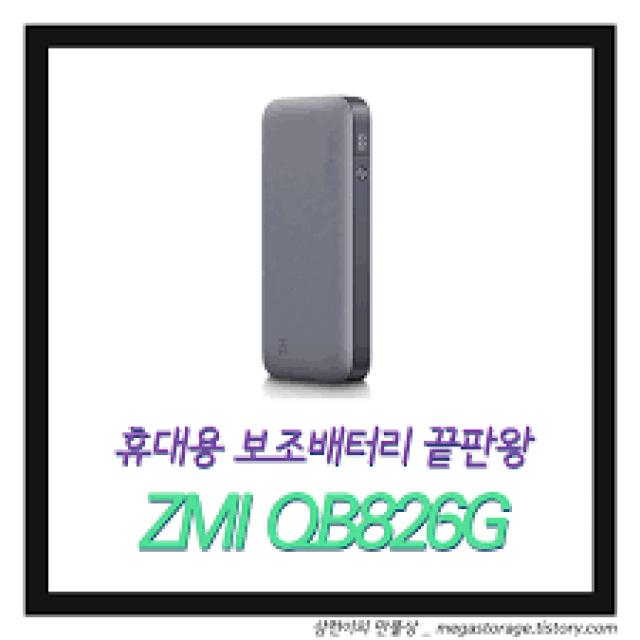portable-charger: (263, 94, 373, 391)
